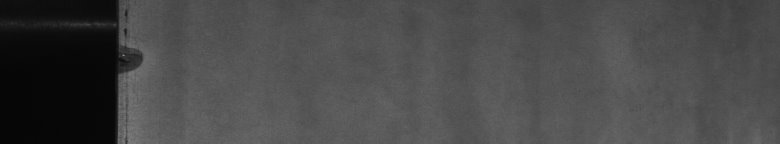hb: (128, 30, 153, 87)
